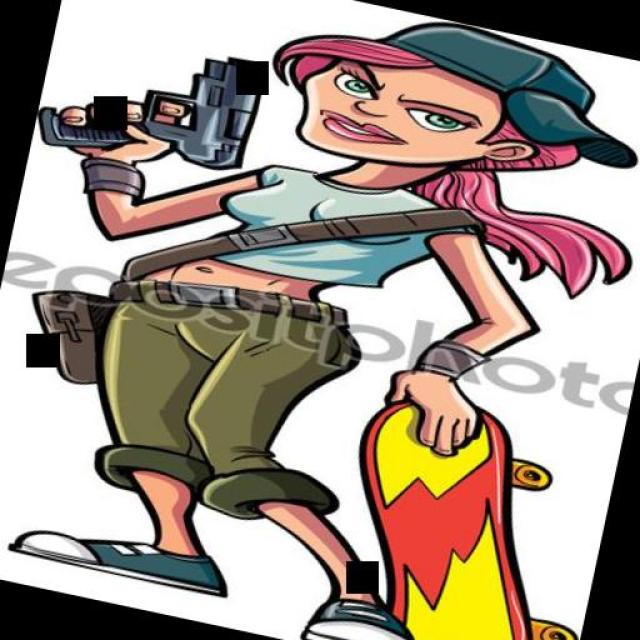gun: (32, 16, 268, 188)
